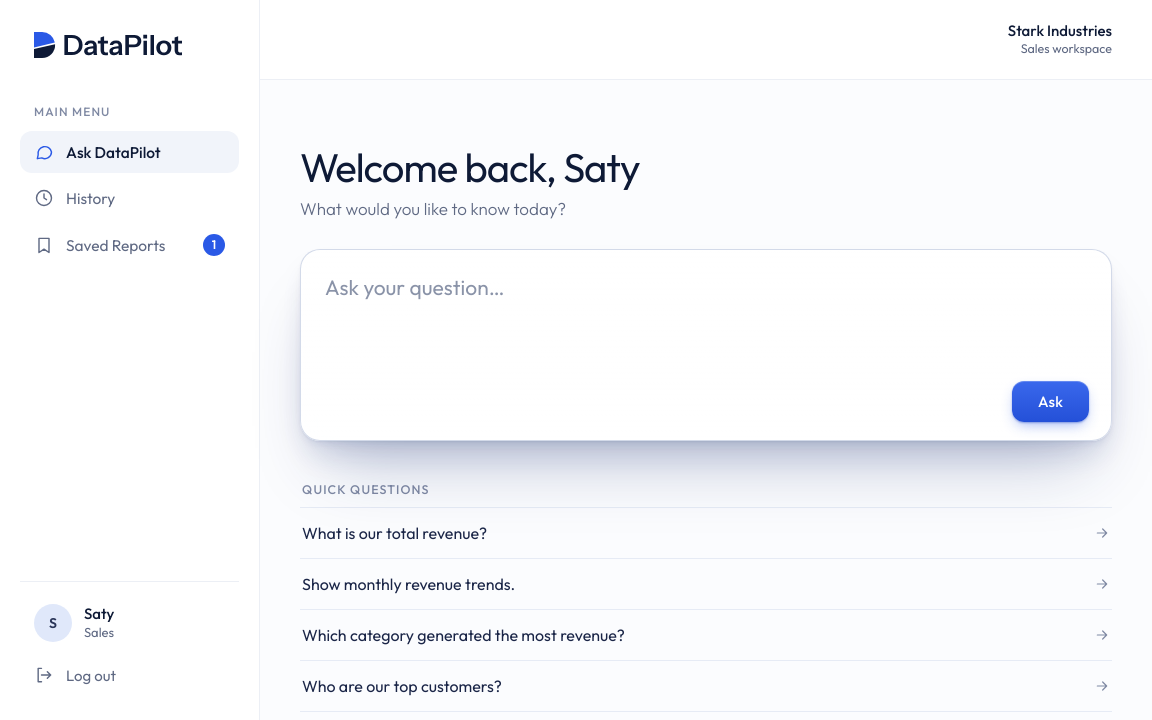
Scenario: where Export PDF is offered › is offered for a fresh answer, also one that was not recorded
Type "How many customers do we have?" into the text box labelled "your question".
click(707, 319); type("How many customers do we have?")  # box [325,272,1089,366]
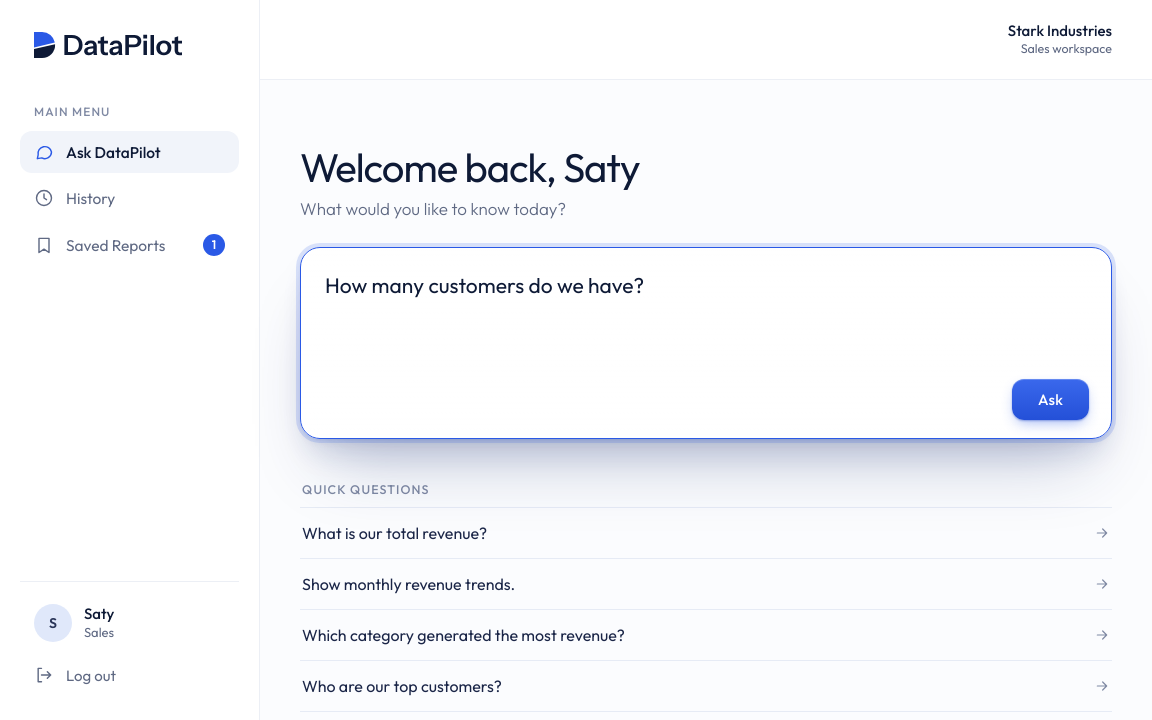
Click the button "Ask".
click(1050, 399)  # box [1012,378,1089,420]
(page scrolled)
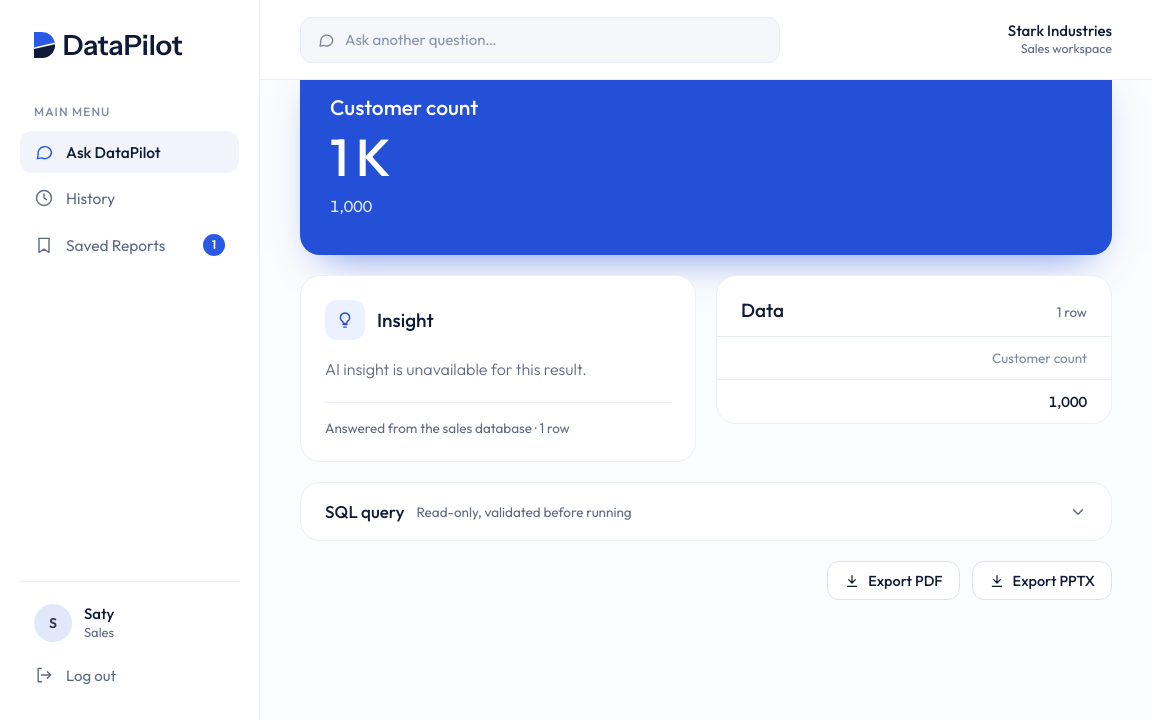
Expected: the button "Export PDF" is enabled, [827,561,960,600]
